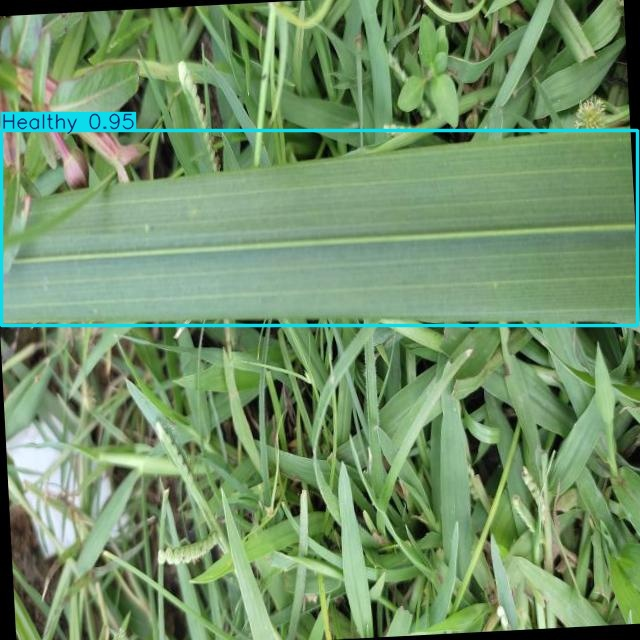Healthy: (1, 131, 638, 325)
